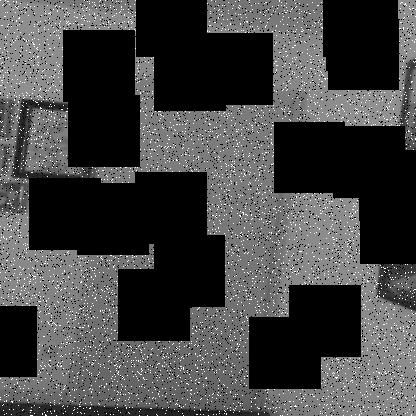Porte: (62, 69, 310, 416)
